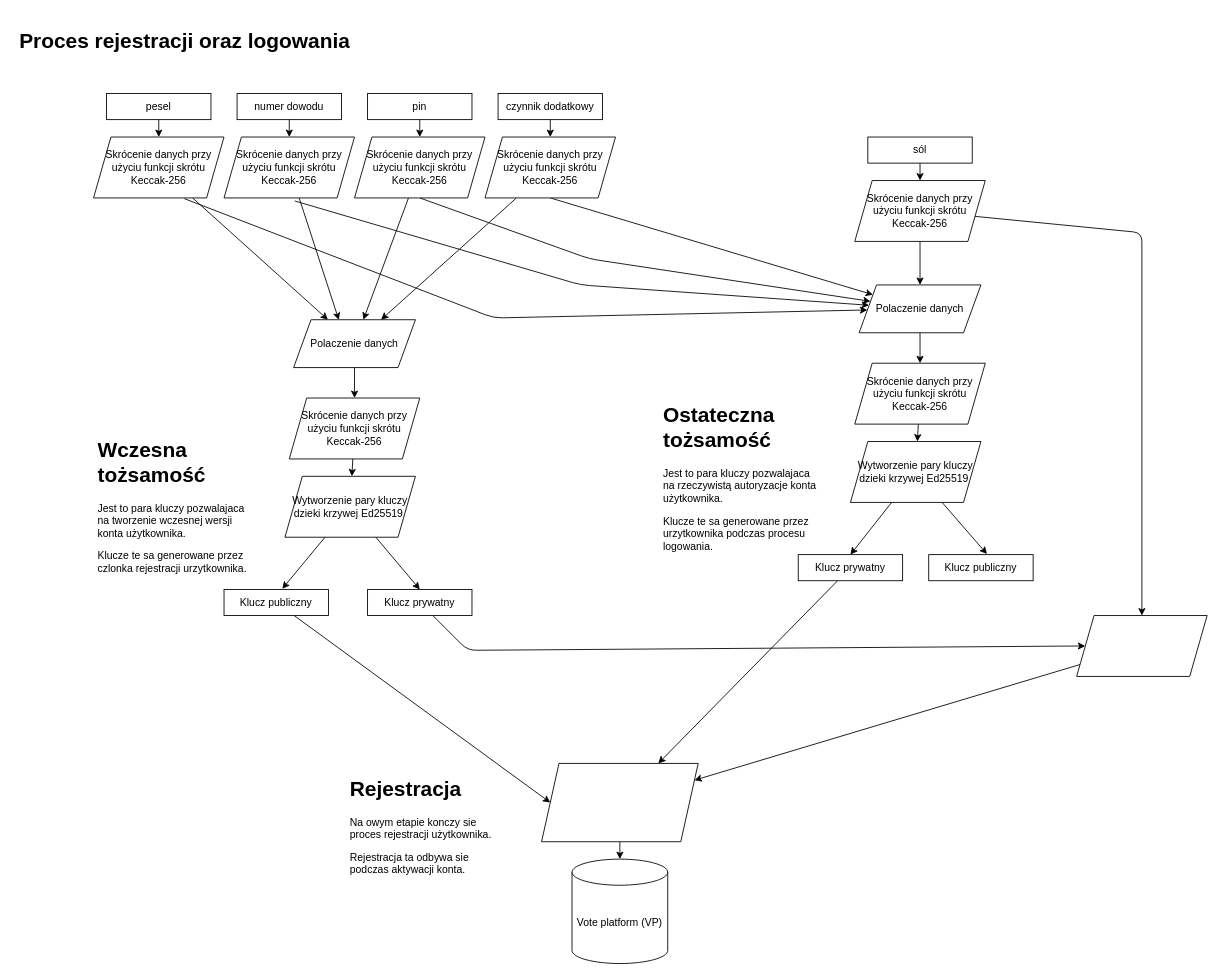
Image size: 1222x979. Some labels were removed from this diagram. The box of each missing label's shape, as (x1, y1, x2, y2) in pixels:
Szyfrowanie asynchroniczne (AES-GCM): (1076, 615, 1207, 676)
Zapis zaszyfrowanego seed w VP do użytkownika z kluczami publicznym tożsamosci: (541, 763, 698, 842)
